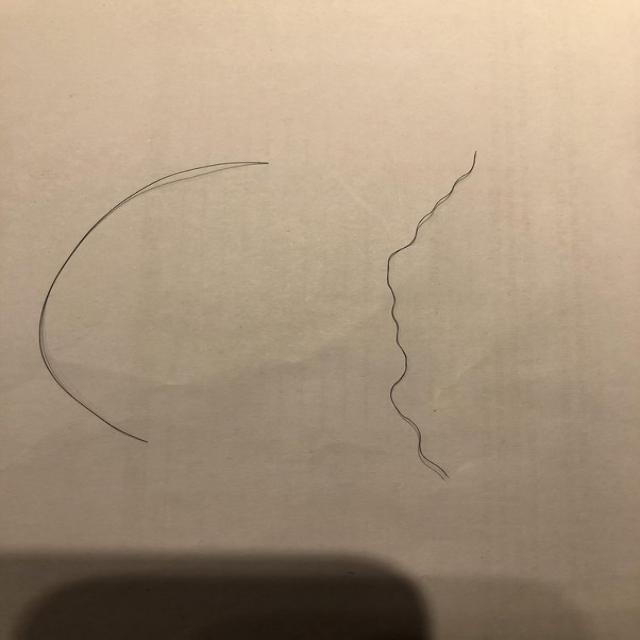hair: (36, 142, 272, 444), (384, 143, 481, 484)
